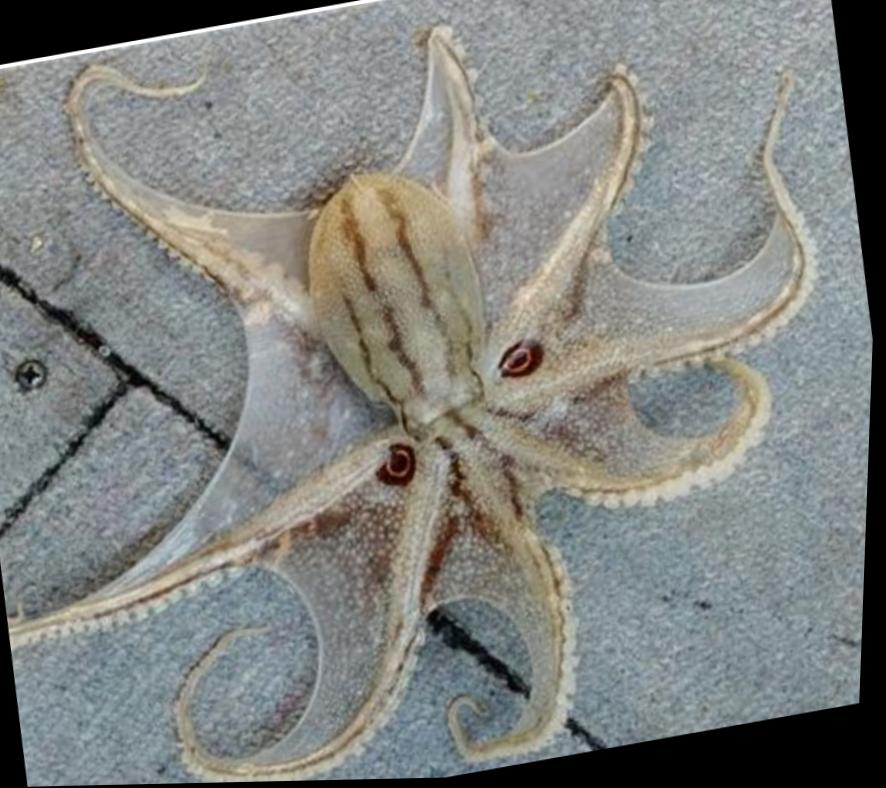Cephalopod: (14, 28, 820, 784)
